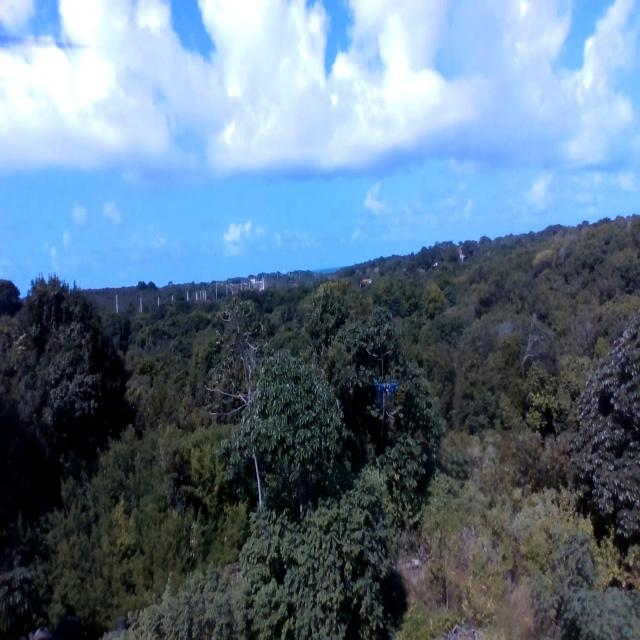-uav-: (372, 375, 398, 415)
